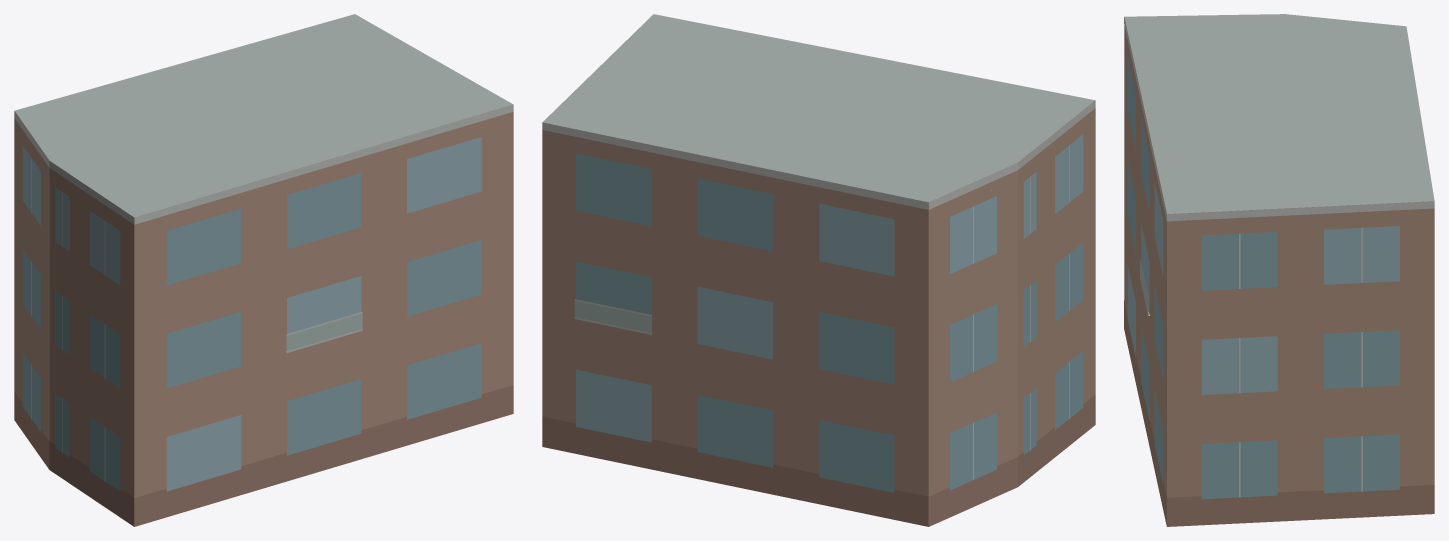
File: survey-upis-32726808.glb
The picture shows the model from 3 angles, left to right: view 1: azimuth 30°, elevation 25°; view 2: azimuth 150°, elevation 25°; view 3: azimuth 270°, elevation 25°; orthographic projection. The views are drawn at different scales.
Visible parts, largest first — view 1: survey-upis-32726808.tmp; view 2: survey-upis-32726808.tmp; view 3: survey-upis-32726808.tmp.
Part boxes in pixels (<box>): survey-upis-32726808.tmp: <box>14,14,513,526</box>; survey-upis-32726808.tmp: <box>542,14,1095,526</box>; survey-upis-32726808.tmp: <box>1124,14,1434,526</box>.
Size of the model in its own units: 14.42 by 10.5 by 9.45.
